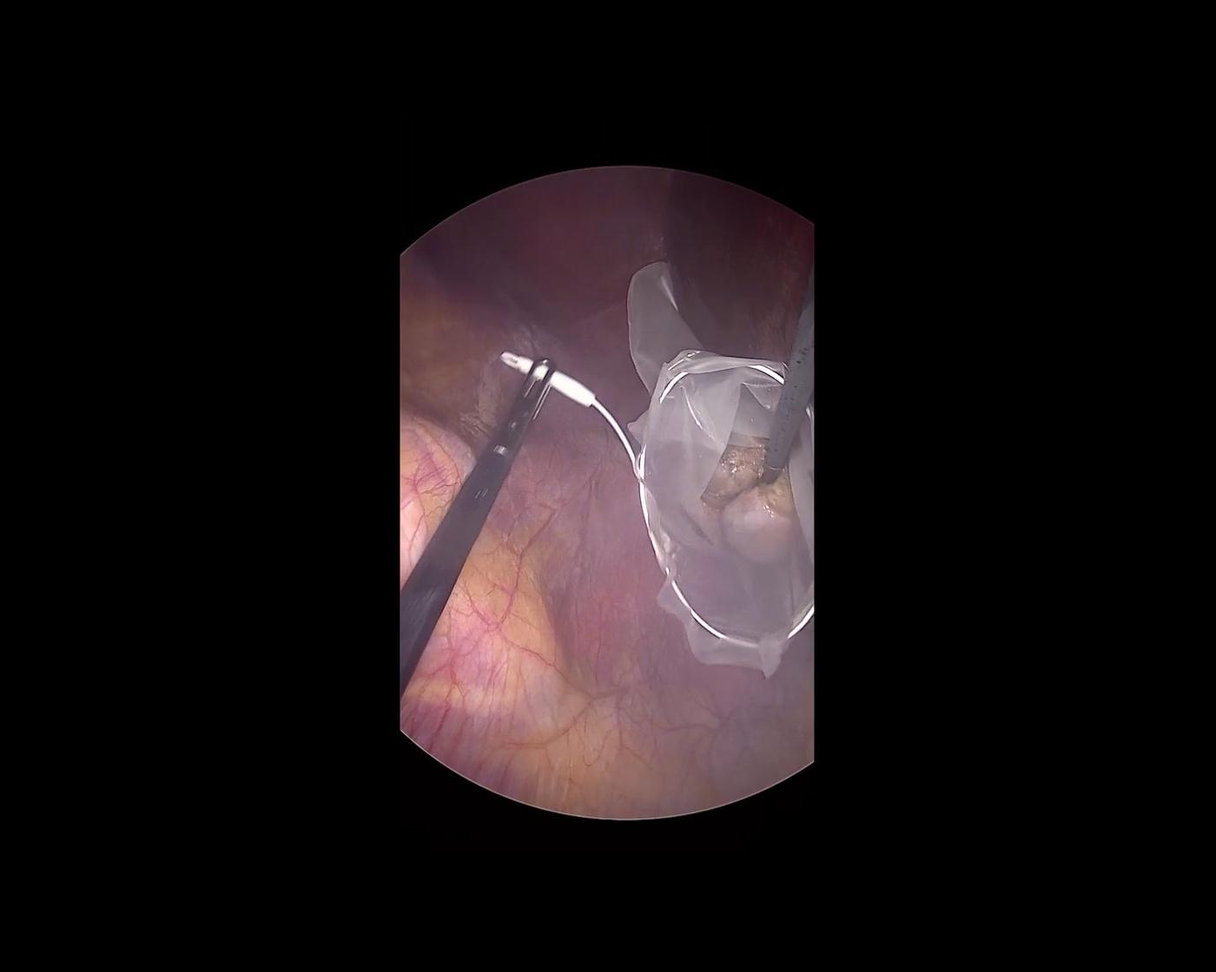Bag: (494, 223, 928, 708)
Forceps: (363, 346, 560, 694), (732, 253, 859, 486)
Gallbladder: (694, 440, 804, 562)
Liver: (631, 171, 820, 367)
